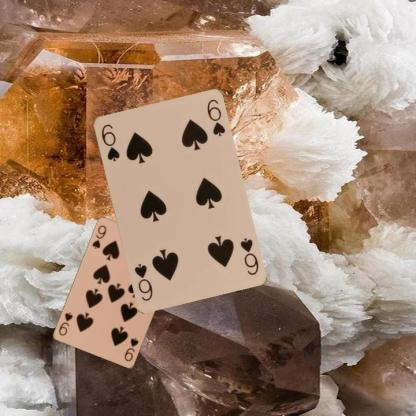6s: (98, 122, 121, 162), (237, 235, 259, 276)
9s: (122, 335, 140, 363), (90, 222, 107, 251)
